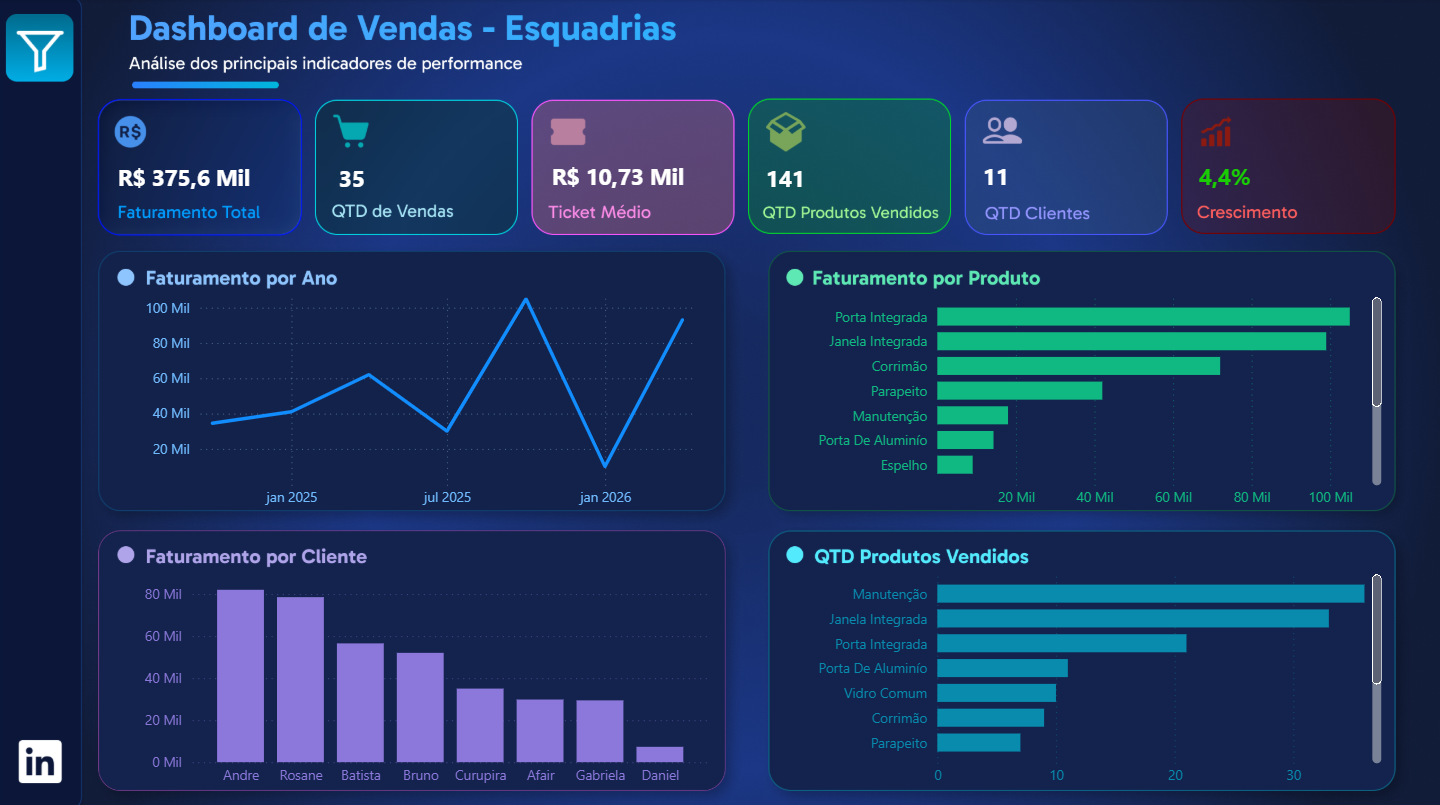

This screenshot's page, from the dashboard's own definition file:
{"tool":"powerbi","page":{"name":"Página 1","canvas":[1280,720],"ordinal":0},"visuals":[{"type":"cardVisual","fields":{"Data":["Itens_Vendas.Qtd Vendas"]},"box":[272.2,127.7,152.5,58.5],"z":0},{"type":"cardVisual","fields":{"Data":["Itens_Vendas.Ticekt Médio"]},"box":[461.1,122.4,179.1,66.5],"z":1000},{"type":"cardVisual","fields":{"Data":["Itens_Vendas.QTD produtos Vendidos"]},"box":[650.8,122.4,122.4,68.3],"z":2000},{"type":"cardVisual","fields":{"Data":["Itens_Vendas.QTD clientes"]},"box":[843.3,124.1,96.7,63],"z":3000},{"type":"lineChart","fields":{"Y":["Itens_Vendas.Faturamento Total"],"Category":["Calendario.Date.Variation.Hierarquia de datas.Ano","Calendario.Date.Variation.Hierarquia de datas.Trimestre"]},"box":[124.1,251.8,509.9,208.4],"z":4000},{"type":"barChart","fields":{"Category":["Produtos.Produto"],"Y":["Itens_Vendas.Faturamento Total"]},"box":[712,251.8,518.7,208.4],"z":5000},{"type":"columnChart","fields":{"Category":["Clientes.Cliente"],"Y":["Itens_Vendas.Faturamento Total"]},"box":[124.1,509.9,509.9,196.8],"z":6000},{"type":"barChart","fields":{"Category":["Produtos.Produto"],"Y":["Itens_Vendas.QTD produtos Vendidos"]},"box":[712,497.4,518.7,209.3],"z":7000},{"type":"cardVisual","fields":{"Data":["Vendas.Crescimento % mensal"]},"box":[1034.8,118.8,106.4,73.6],"z":8000},{"type":"cardVisual","fields":{"Data":["Itens_Vendas.Faturamento Total"]},"box":[76.3,125,181.8,63.8],"z":9000},{"type":"actionButton","box":[9.1,10.9,57.9,70.6],"z":11000}]}

Visuals, with their boxes in screenshot pixels (x1, y1, x2, y2), scaled from the page's 1280x720 canvas onto the 1440x805 screenshot:
cardVisual - Itens_Vendas.Qtd Vendas: <bbox>306, 143, 478, 208</bbox>
cardVisual - Itens_Vendas.Ticekt Médio: <bbox>519, 137, 720, 211</bbox>
cardVisual - Itens_Vendas.QTD produtos Vendidos: <bbox>732, 137, 870, 213</bbox>
cardVisual - Itens_Vendas.QTD clientes: <bbox>949, 139, 1058, 209</bbox>
lineChart - Itens_Vendas.Faturamento Total x Calendario.Date.Variation.Hierarquia de datas.Ano: <bbox>140, 282, 713, 515</bbox>
barChart - Produtos.Produto x Itens_Vendas.Faturamento Total: <bbox>801, 282, 1385, 515</bbox>
columnChart - Clientes.Cliente x Itens_Vendas.Faturamento Total: <bbox>140, 570, 713, 790</bbox>
barChart - Produtos.Produto x Itens_Vendas.QTD produtos Vendidos: <bbox>801, 556, 1385, 790</bbox>
cardVisual - Vendas.Crescimento % mensal: <bbox>1164, 133, 1284, 215</bbox>
cardVisual - Itens_Vendas.Faturamento Total: <bbox>86, 140, 290, 211</bbox>
actionButton: <bbox>10, 12, 75, 91</bbox>
